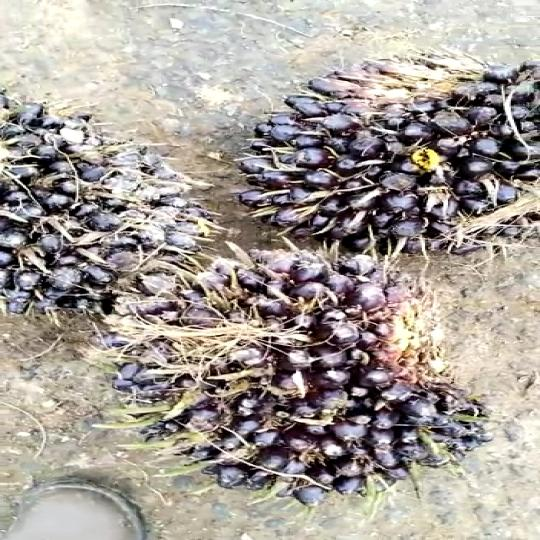mentah: (105, 241, 501, 502), (203, 44, 540, 237), (0, 86, 219, 321)
